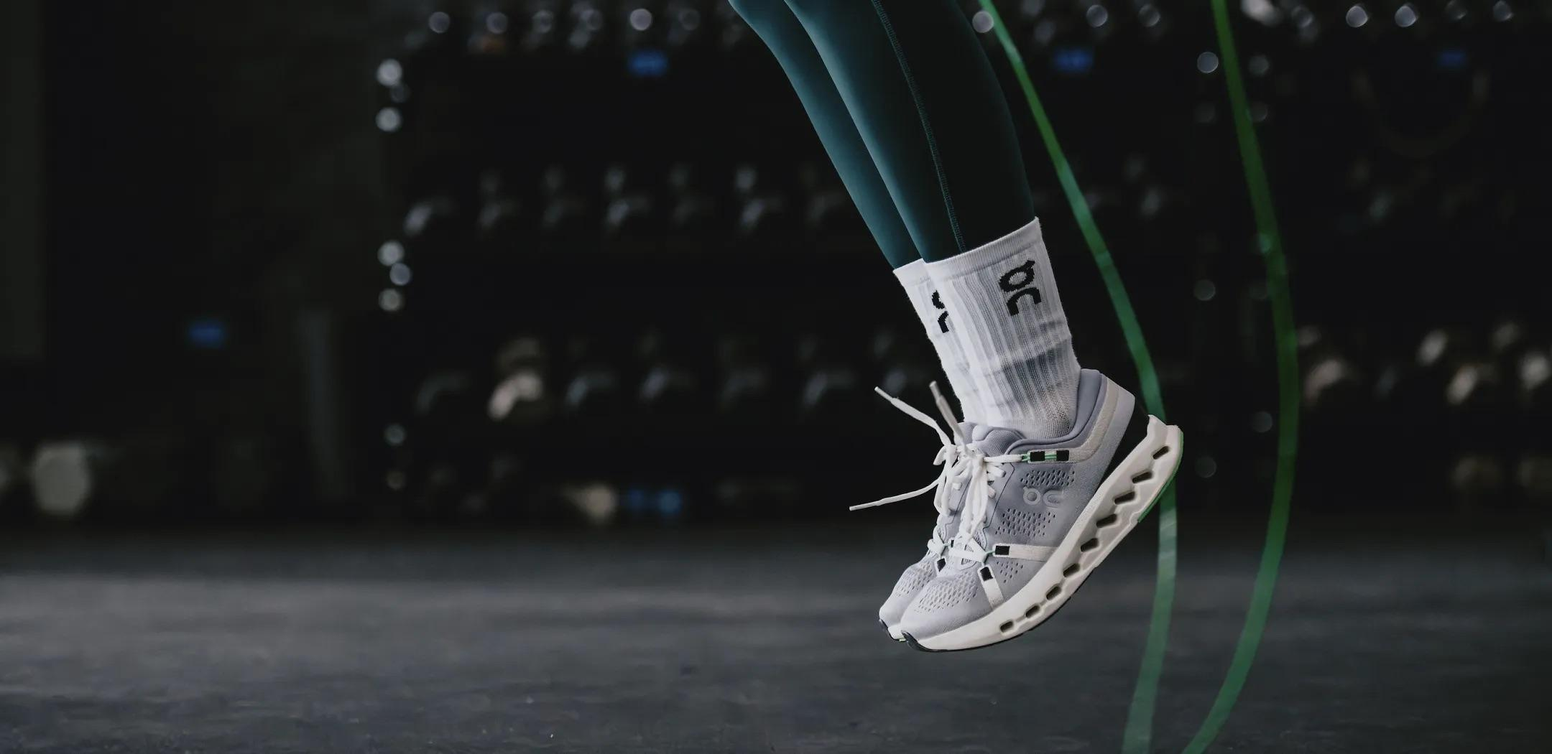OC_logo: (1010, 473, 1080, 521)
sock logo: (935, 219, 1078, 433), (887, 262, 983, 416)
